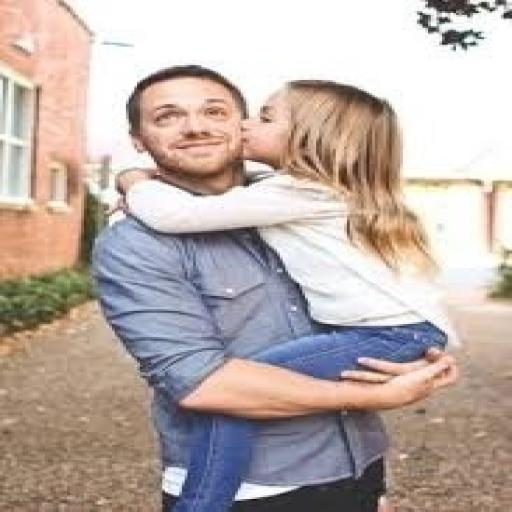hugging: (95, 63, 462, 510)
